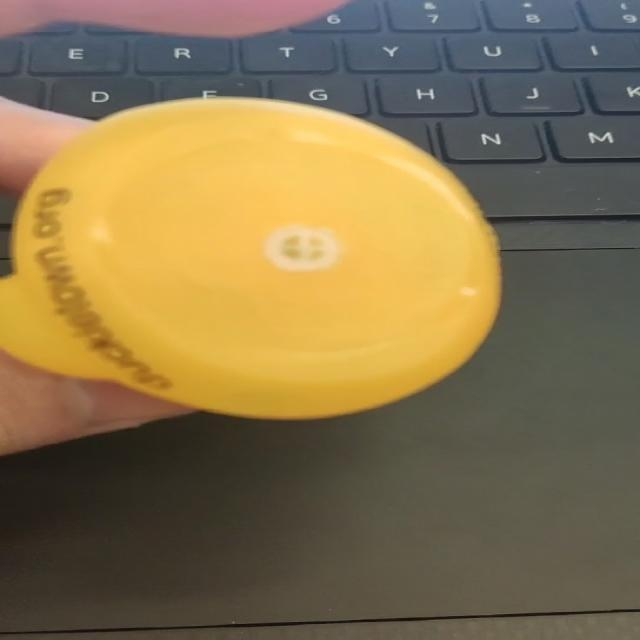rubber-duck: (0, 98, 499, 416)
